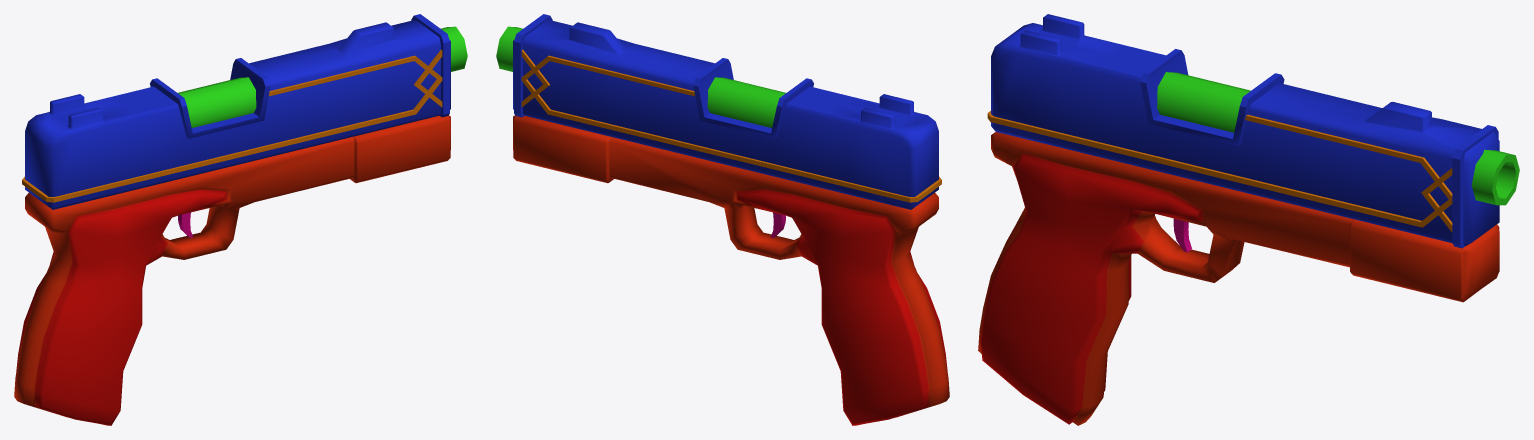
The model's file is fbx_gun.fbx.
3 views of the same model, side by side, from view 1: azimuth 30°, elevation 25°; view 2: azimuth 150°, elevation 25°; view 3: azimuth 330°, elevation 25° (orthographic). The views are drawn at different scales.
Visible parts, largest first — view 1: gun, gun_top, glod_edge, gun_barrel; view 2: gun, gun_top, glod_edge, gun_barrel; view 3: gun, gun_top, gun_barrel, glod_edge.
Part boxes in pixels (x1,y1,x2,y2): gun: (14,115,450,425); gun_top: (25,14,450,209); glod_edge: (22,49,442,202); gun_barrel: (178,26,467,127); gun: (513,115,949,425); gun_top: (513,14,938,209); glod_edge: (521,49,941,202); gun_barrel: (496,26,785,127); gun: (978,132,1499,425); gun_top: (991,14,1499,248); gun_barrel: (1157,72,1519,205); glod_edge: (987,111,1452,232).
Size of the model in its own units: 210 by 150 by 28.86.
